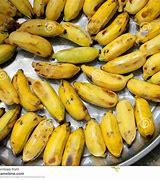banana: (0, 0, 160, 157), (79, 100, 156, 154), (30, 75, 90, 119), (97, 22, 138, 53), (9, 32, 54, 52), (50, 44, 101, 61), (104, 52, 146, 72), (29, 61, 78, 77)
